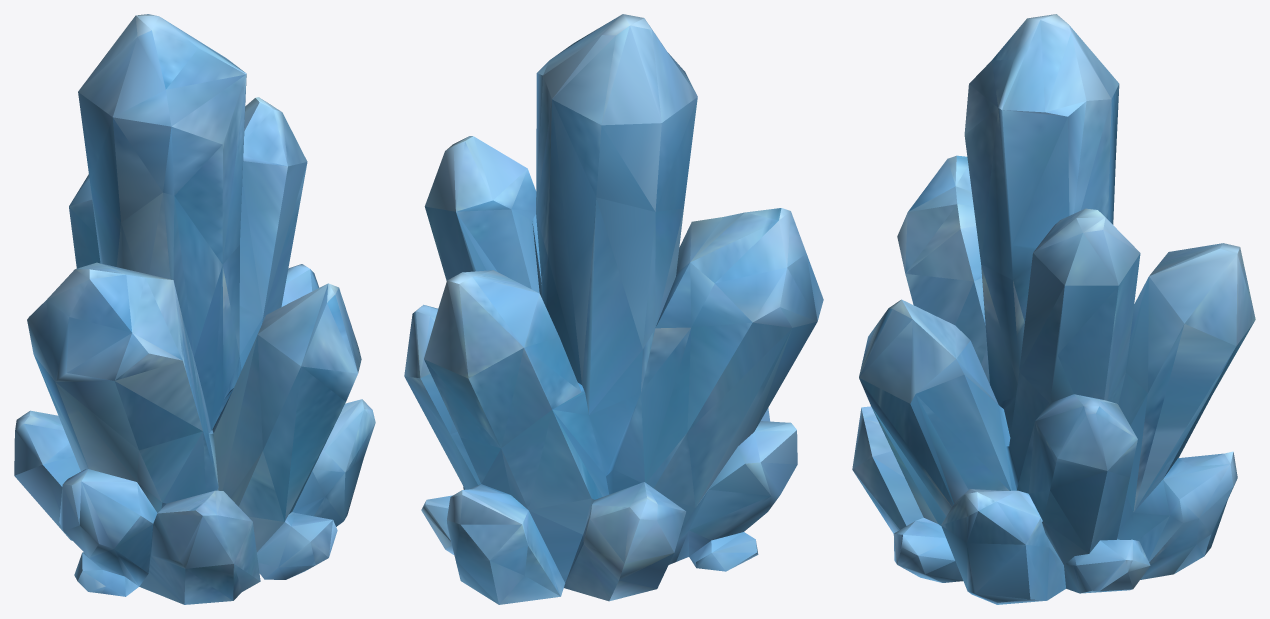
The model's file is racimo_hielo_m.glb.
3 views of the same model, side by side, from view 1: azimuth 30°, elevation 25°; view 2: azimuth 150°, elevation 25°; view 3: azimuth 270°, elevation 25° (orthographic). The views are drawn at different scales.
Parts seen in each view (by area): view 1: racimo_hielo_m_malla; view 2: racimo_hielo_m_malla; view 3: racimo_hielo_m_malla.
Part boxes in pixels (x1,y1,x2,y2): racimo_hielo_m_malla: [14, 14, 375, 604]; racimo_hielo_m_malla: [404, 14, 823, 604]; racimo_hielo_m_malla: [852, 14, 1255, 604].
Bounding box in the file's own units: 0.1549 × 0.2385 × 0.1684.
Materials: 1 (1 with a texture image).
